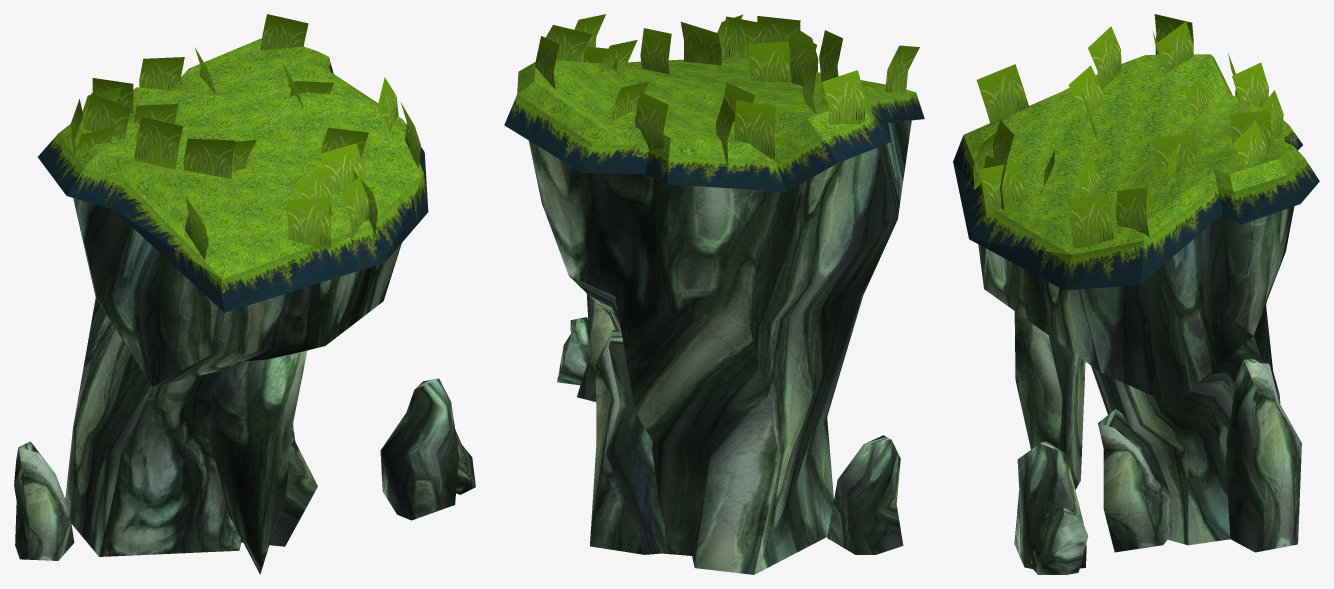
Rendered from a_SWFswall01j_c.glb.
3 renders of one model, left to right at view 1: azimuth 30°, elevation 25°; view 2: azimuth 150°, elevation 25°; view 3: azimuth 270°, elevation 25°, orthographic. The views are drawn at different scales.
Visible parts, largest first — view 1: a_SWFswall01j_c; view 2: a_SWFswall01j_c; view 3: a_SWFswall01j_c.
Boxes of the visible parts, box(x1,y1,x2,y2) form: a_SWFswall01j_c: box(14, 14, 475, 574); a_SWFswall01j_c: box(504, 14, 924, 574); a_SWFswall01j_c: box(953, 14, 1319, 574).
Size of the model in its own units: 2.36 by 2.7 by 1.96.
6 materials, 6 textured.
